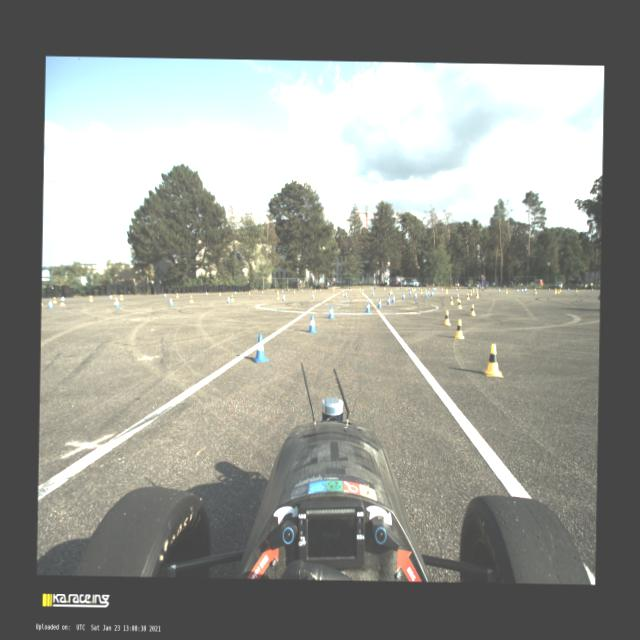blue_cone: (252, 333, 268, 362), (308, 314, 316, 332), (328, 305, 334, 318), (377, 298, 382, 308), (365, 302, 370, 312), (386, 296, 391, 304), (169, 298, 173, 306), (115, 298, 119, 306), (48, 300, 52, 308), (227, 296, 230, 303), (282, 294, 285, 300), (311, 292, 314, 298), (431, 290, 434, 296), (61, 295, 64, 301), (408, 290, 412, 294), (424, 292, 428, 296), (109, 294, 112, 299), (392, 295, 394, 302), (372, 290, 374, 296), (388, 290, 391, 294), (414, 292, 416, 298), (402, 292, 404, 298), (234, 290, 237, 294), (205, 291, 208, 295), (164, 292, 166, 298), (344, 292, 346, 296), (498, 288, 500, 292), (516, 288, 518, 292), (521, 288, 523, 292), (427, 290, 429, 294), (300, 288, 302, 292), (262, 290, 264, 294), (475, 288, 477, 291), (567, 288, 569, 291), (591, 288, 593, 291), (455, 288, 457, 291), (433, 287, 435, 290), (548, 288, 550, 290), (370, 286, 371, 290), (408, 286, 409, 290), (524, 288, 525, 291), (435, 287, 436, 290), (432, 287, 433, 290), (428, 287, 429, 290), (525, 288, 526, 290), (534, 288, 535, 290), (441, 288, 442, 290), (418, 287, 419, 289), (335, 288, 336, 290), (398, 288, 399, 290), (320, 288, 320, 291), (282, 290, 282, 292), (348, 288, 348, 290), (360, 288, 360, 290)
yellow_cone: (482, 344, 503, 376), (454, 318, 464, 338), (442, 309, 450, 325), (469, 304, 475, 315), (457, 299, 462, 309), (60, 298, 65, 306), (449, 296, 454, 304), (466, 292, 470, 300), (53, 296, 57, 303), (190, 295, 193, 303), (89, 295, 93, 301), (231, 294, 234, 301), (456, 294, 459, 301), (504, 288, 508, 293), (475, 292, 478, 298), (120, 294, 123, 300), (445, 288, 447, 294), (420, 288, 422, 294), (342, 290, 344, 296), (219, 290, 221, 296), (176, 292, 178, 298), (276, 294, 278, 299), (390, 288, 392, 293), (534, 289, 536, 294), (558, 288, 560, 293), (470, 290, 472, 294), (472, 288, 474, 292), (554, 290, 556, 294), (576, 288, 578, 292), (559, 288, 561, 292), (446, 288, 448, 292), (361, 290, 363, 294), (293, 288, 295, 292), (276, 290, 278, 294), (248, 290, 250, 294), (115, 296, 116, 304), (414, 287, 416, 290), (425, 288, 426, 292), (396, 286, 397, 290), (383, 286, 384, 290), (333, 288, 334, 292), (314, 288, 315, 292), (287, 288, 289, 290), (372, 287, 373, 290), (350, 287, 351, 290), (406, 287, 407, 290), (412, 287, 412, 291), (312, 291, 312, 296)
